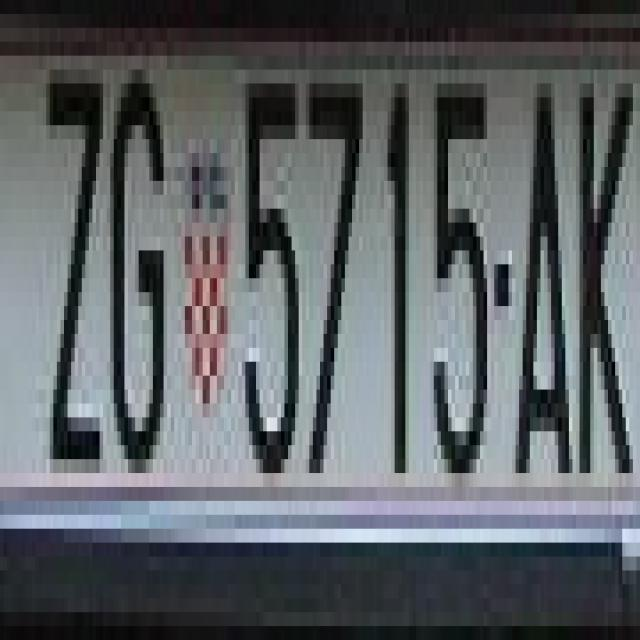1: (380, 70, 416, 487)
5: (238, 56, 295, 473), (430, 70, 487, 487)
7: (306, 56, 362, 487)
A: (512, 56, 576, 473)
G: (110, 42, 164, 459)
K: (576, 84, 636, 473)
Z: (42, 42, 100, 459)
